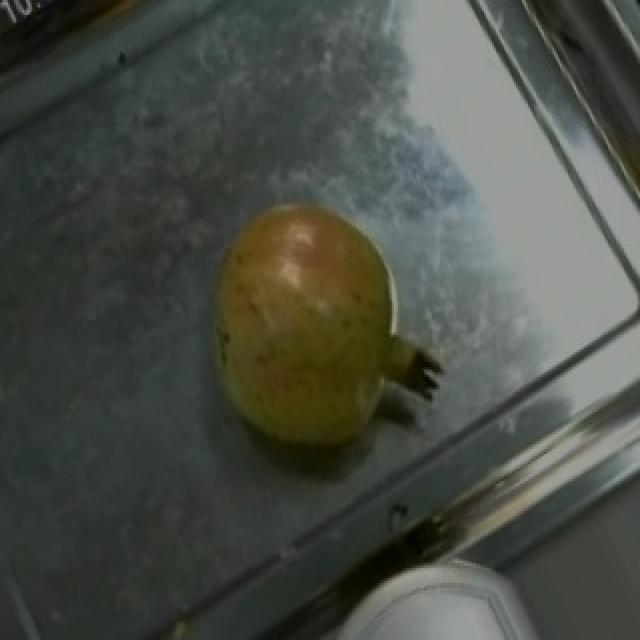fruit: (172, 166, 436, 427)
